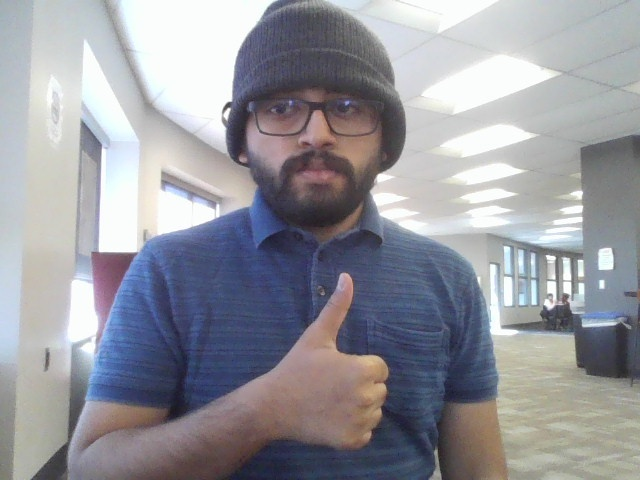start: (277, 267, 400, 461)
